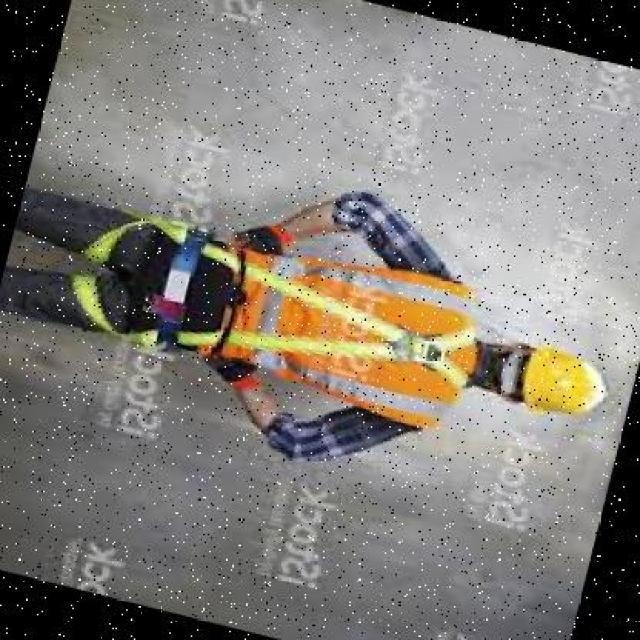Arnes_seguridad: (54, 195, 497, 430)
